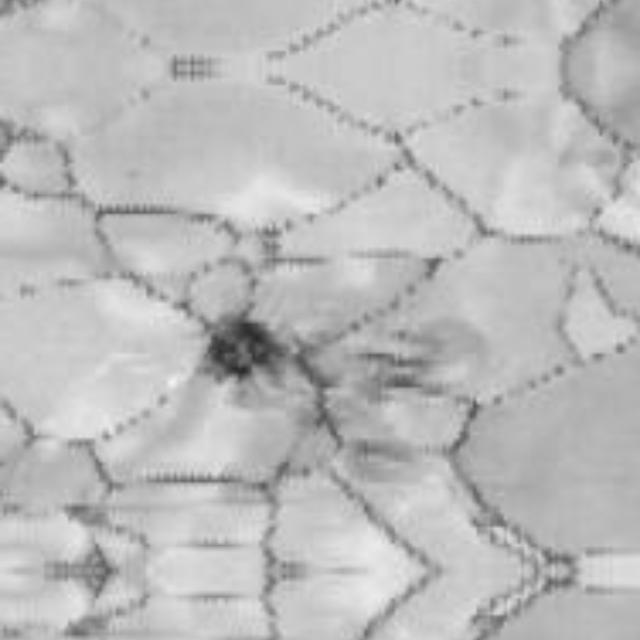good_void: (197, 314, 297, 399)
